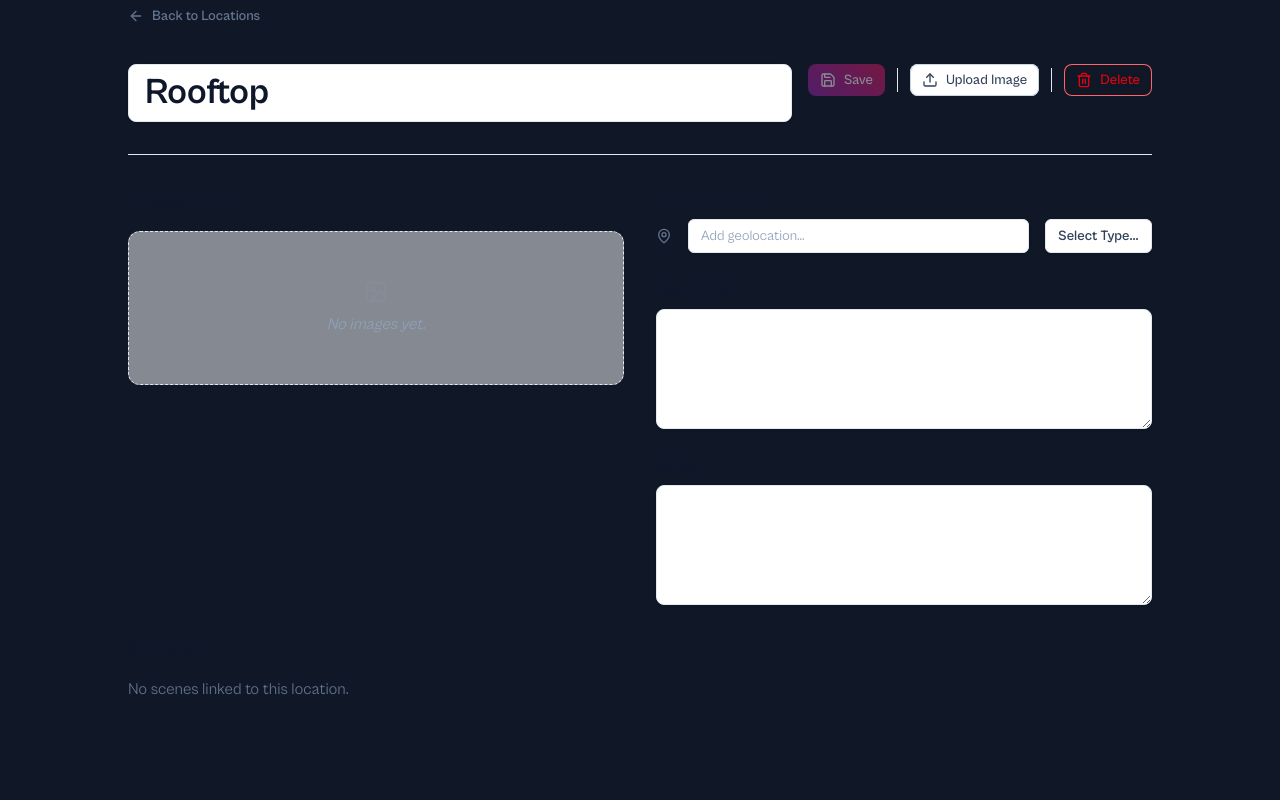
Test: LocationDetail › shows "Error saving" when saveLocation throws
Replace the text in the field showing "Rooftop" with "Warehouse" at (460, 93), box [128,64,792,122]
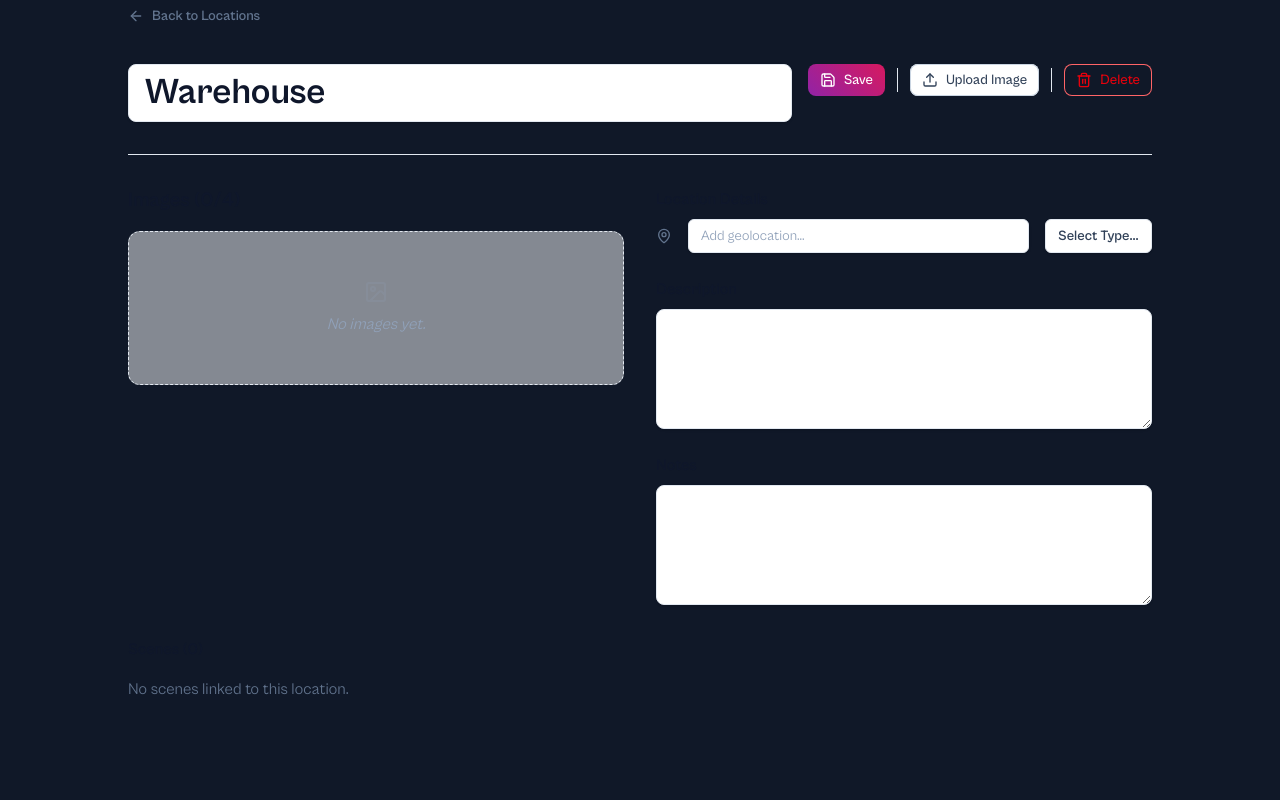
Click the button "Save" at (846, 80), box [808,64,885,96]
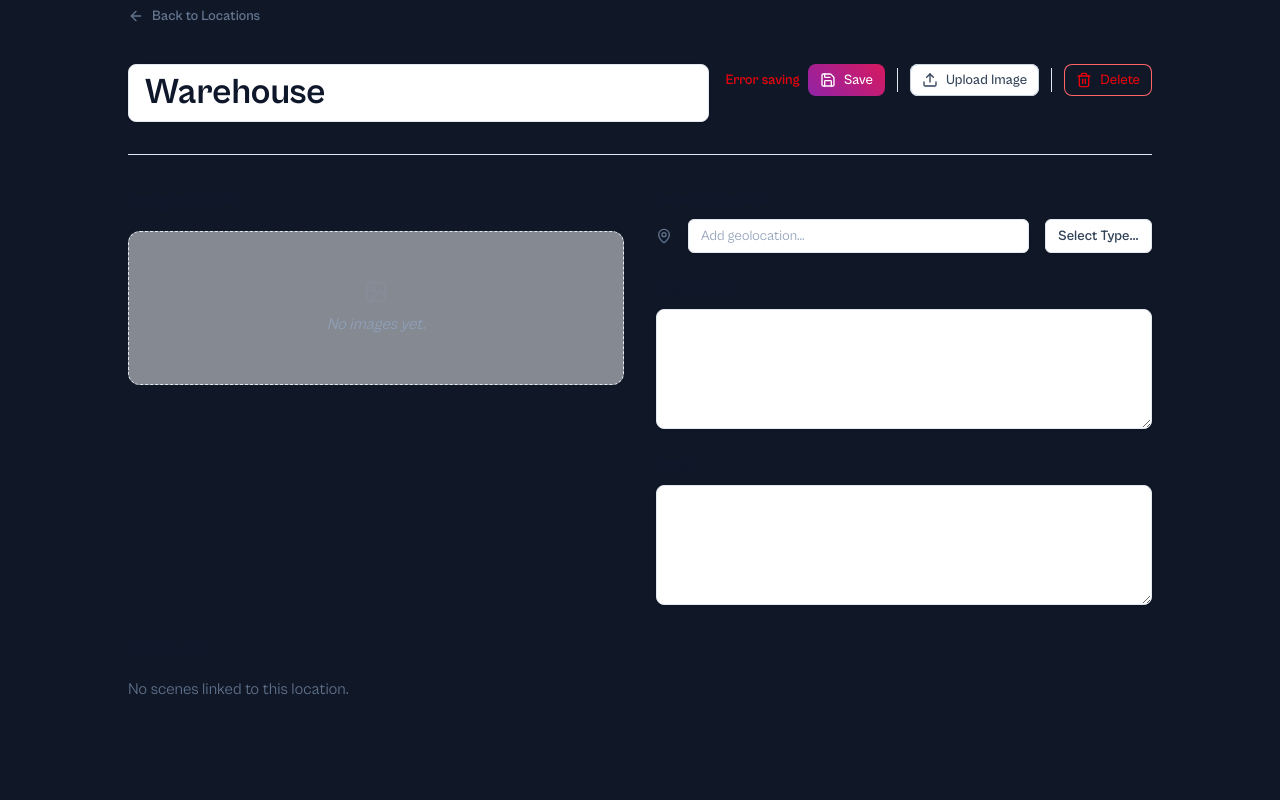
Now the text "Error saving" is shown, box [725,70,800,90]
